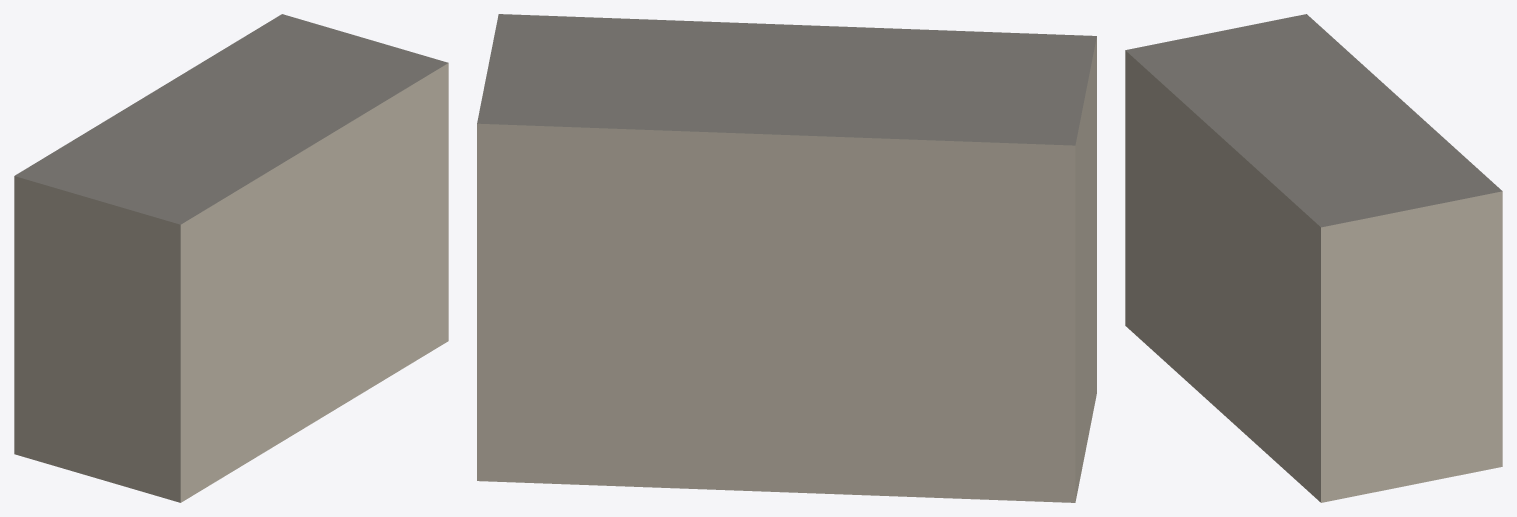
3 views of the same model, side by side, from view 1: azimuth 30°, elevation 25°; view 2: azimuth 150°, elevation 25°; view 3: azimuth 270°, elevation 25° (orthographic). The views are drawn at different scales.
Visible parts, largest first — view 1: HP-w1070642159; view 2: HP-w1070642159; view 3: HP-w1070642159.
Boxes of the visible parts, x1,y1,x2,y2 form: HP-w1070642159: (14,14,448,502); HP-w1070642159: (477,14,1096,502); HP-w1070642159: (1125,14,1502,502).
Size of the model in its own units: 29.91 by 18 by 22.35.
